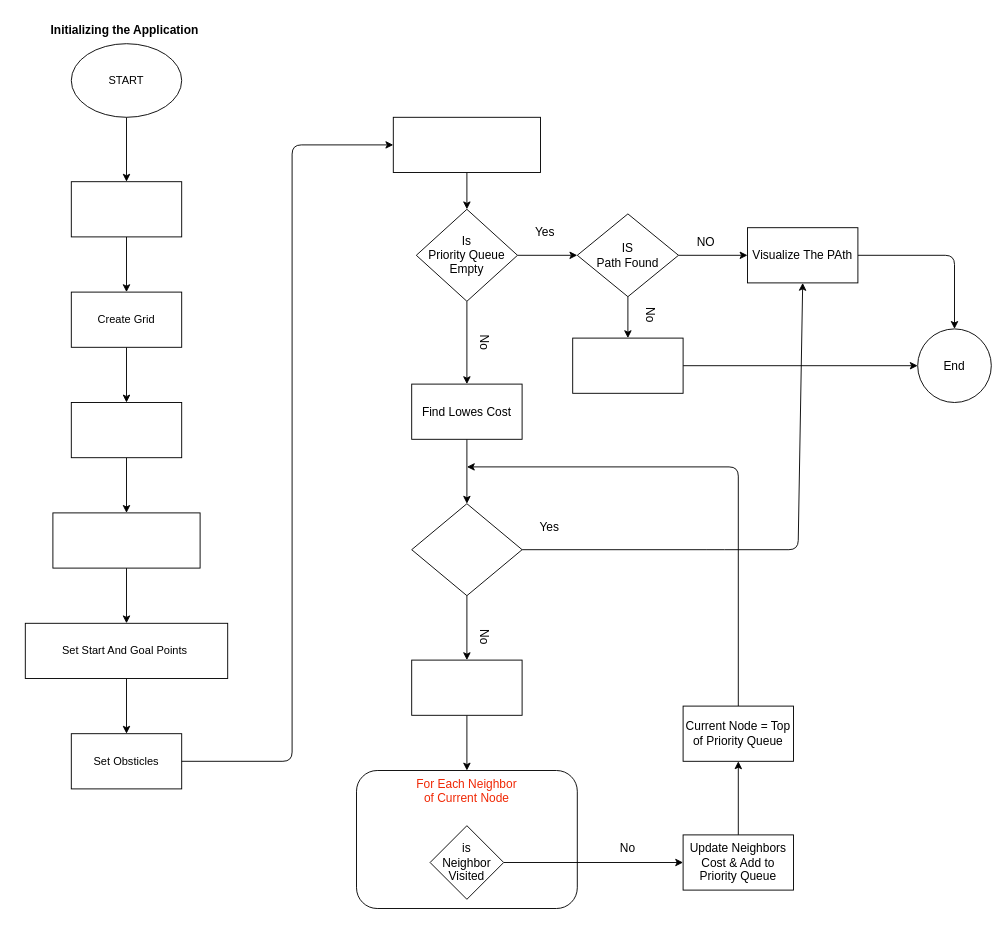
This 1007x925 diagram has some shape labels left out. Here are the shapes that lost their labels. From the top down, the centre of each, then its label:
(466,144): Initialize A*
(126,209): Read Dimensions
(627,365): Print No Path Found
(126,430): Initialize Grid
(126,540): Calculate Heuristics
(466,549): Is Current Node == Goal
(466,687): Add Current Node To Visited
